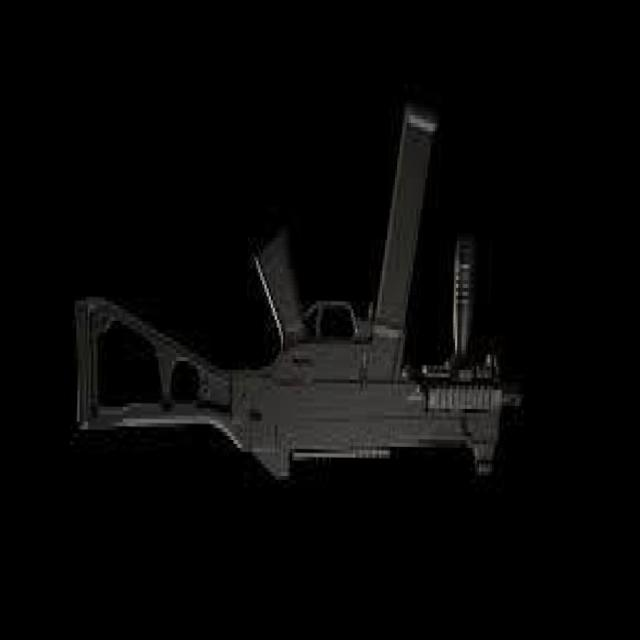Gun: (62, 80, 535, 504)
